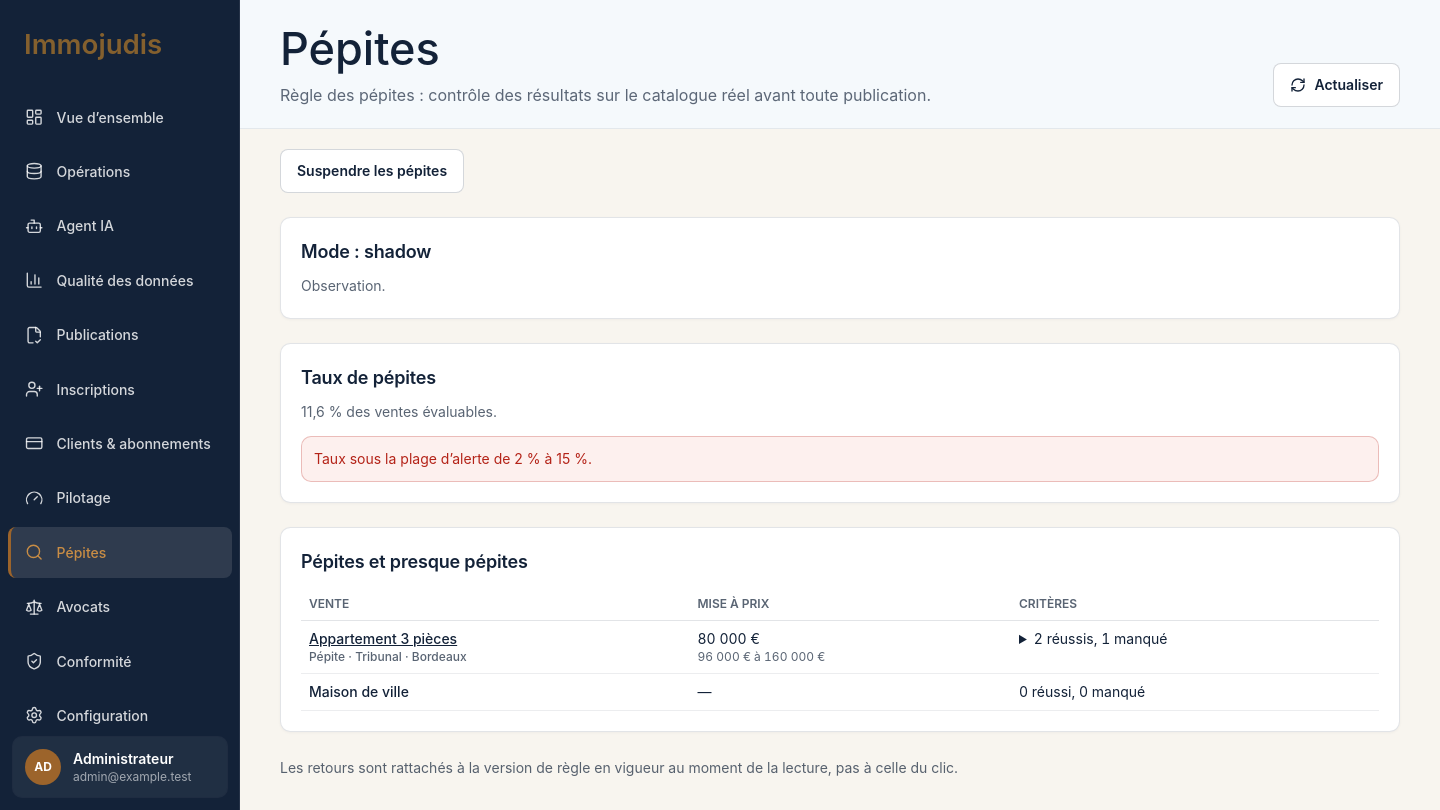
Test: page d'administration des pépites › arrêt d'urgence › l'affiche en mode on, demande confirmation puis repasse en shadow et relit la page
Click the button "Suspendre les pépites" at (372, 171), box [280,149,464,193]
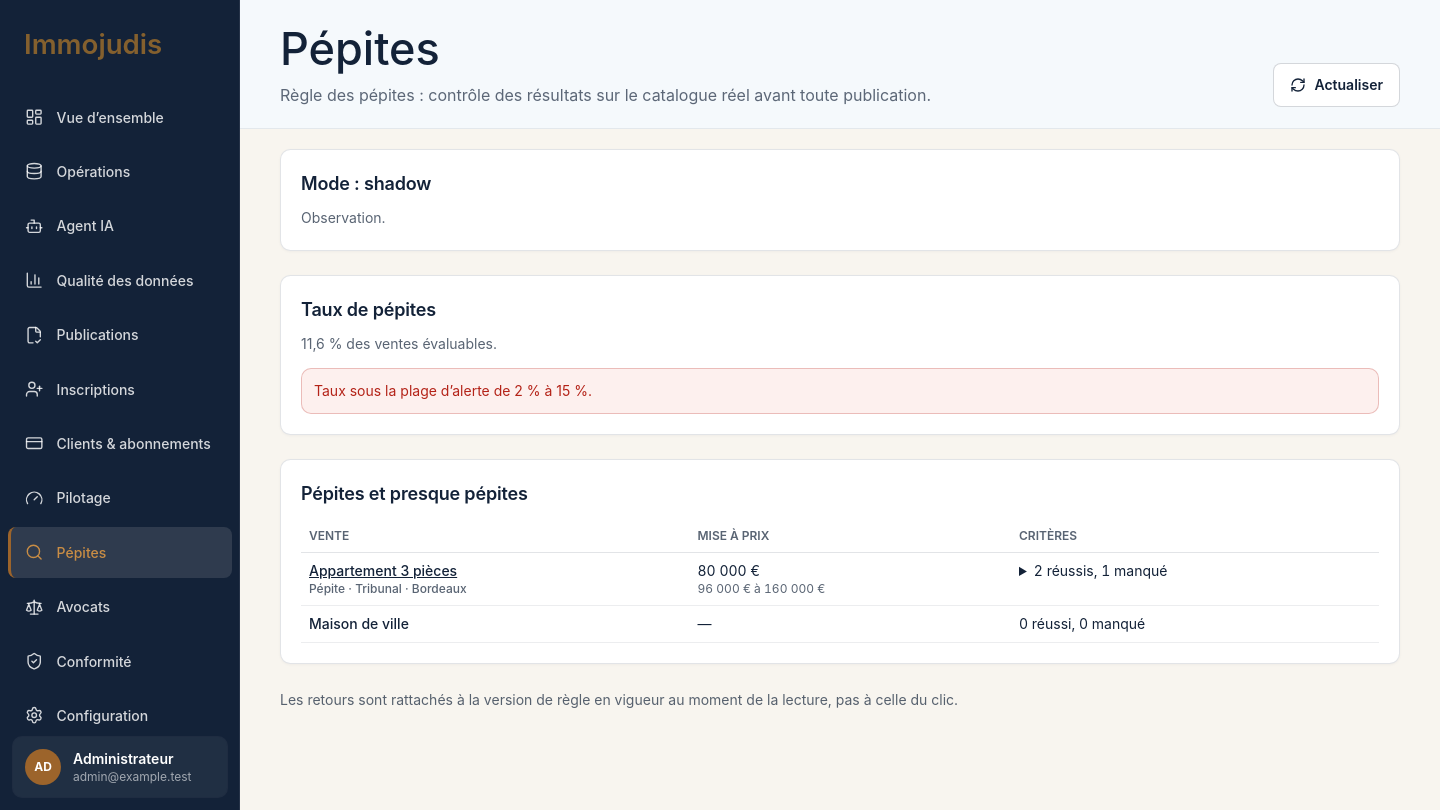
Check: the button "Suspendre les pépites" is gone
